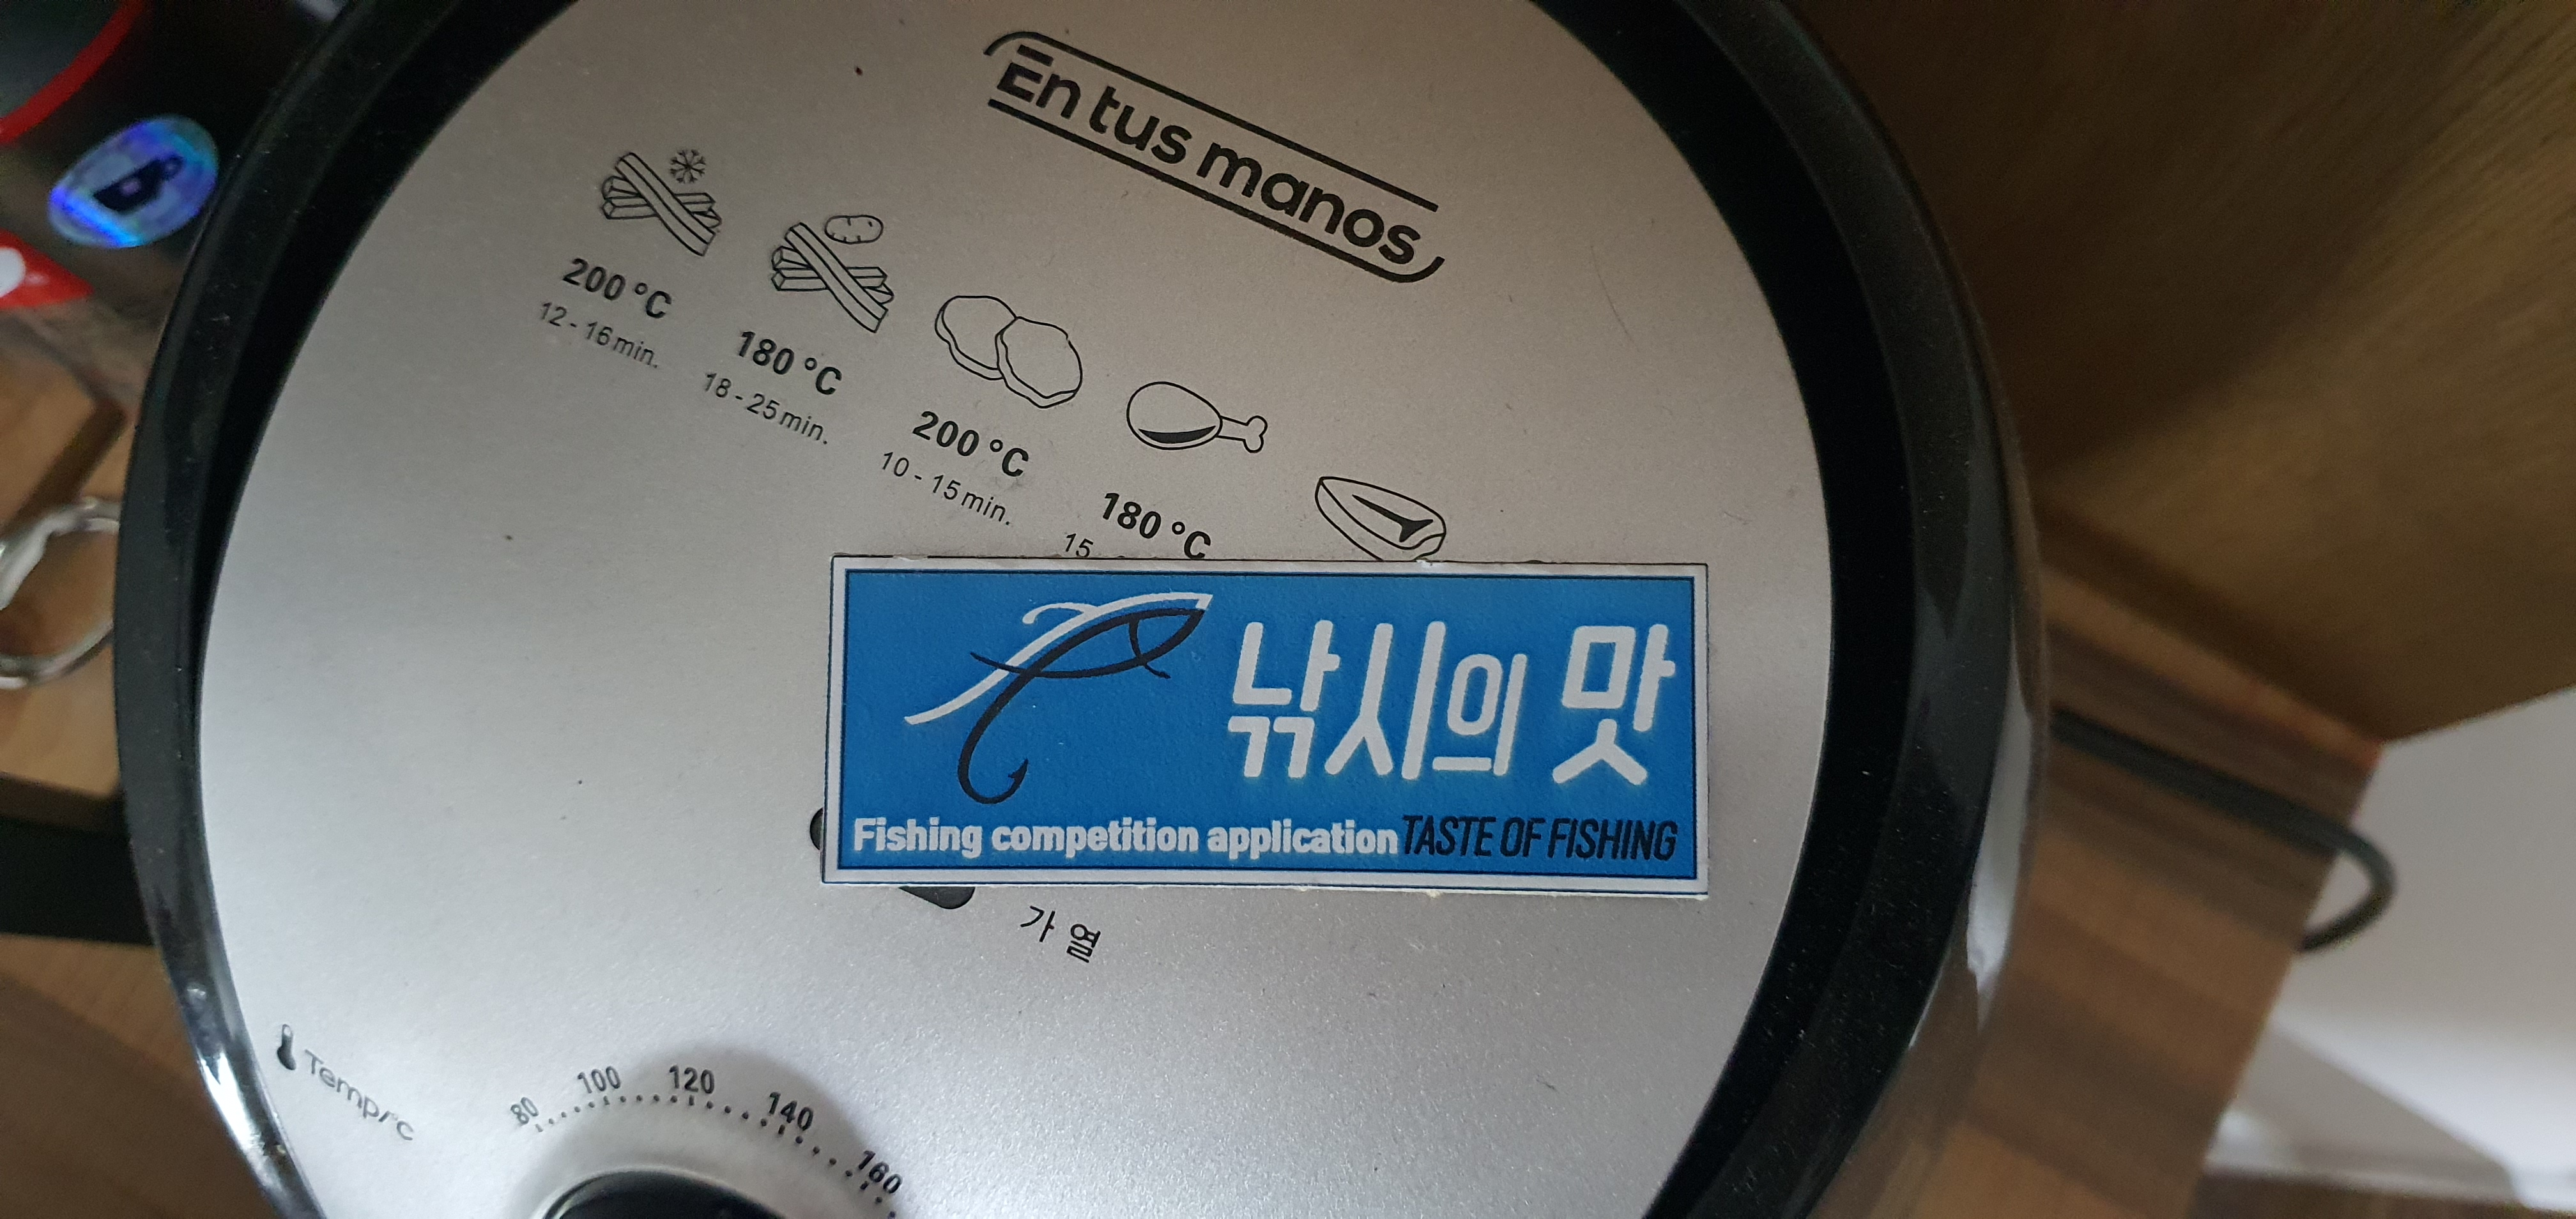tag: (825, 552, 1713, 902)
